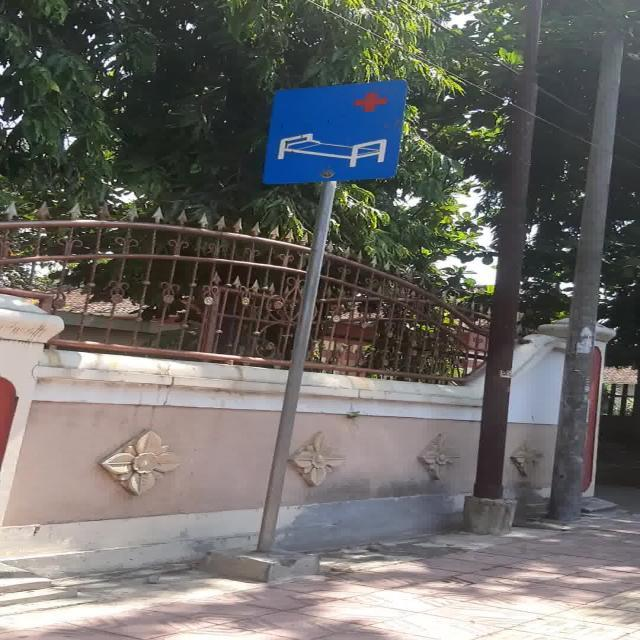Rumah Sakit: (263, 80, 408, 184)
